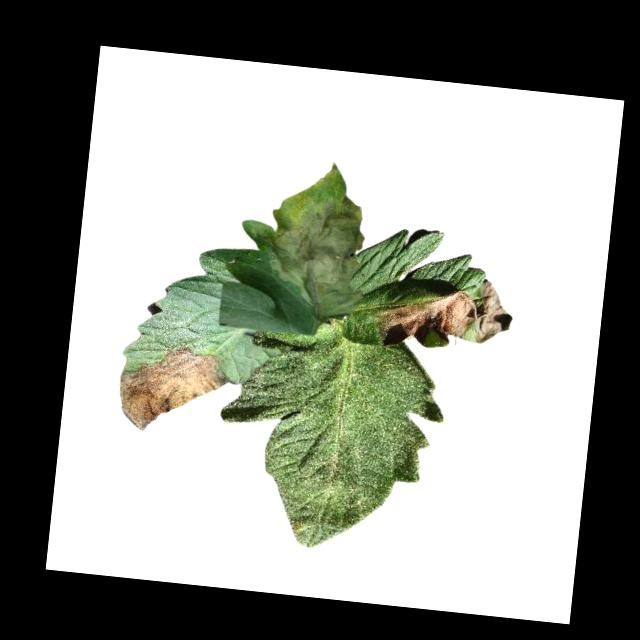Late_blight: (255, 189, 369, 325), (371, 269, 517, 354), (115, 337, 232, 439)
